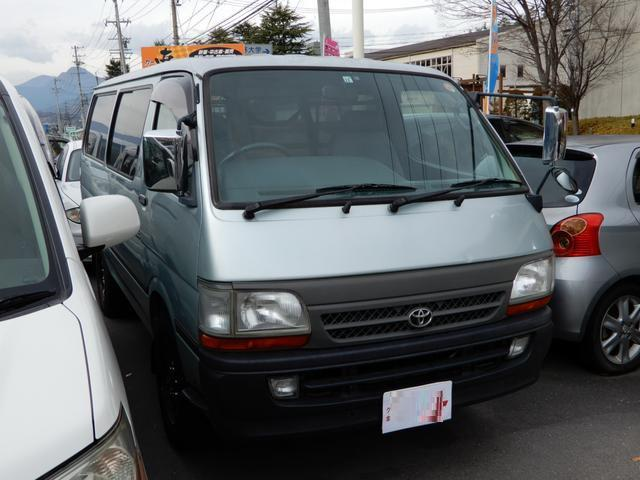van: (80, 58, 554, 425)
